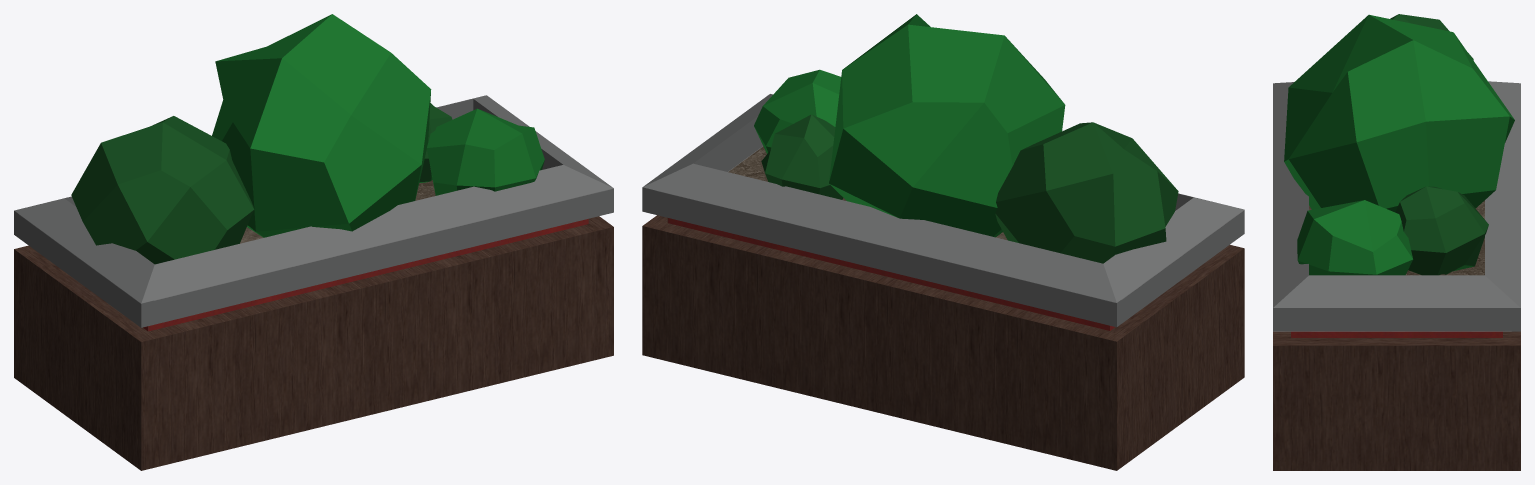
The model's file is Plant1.gltf.
3 renders of one model, left to right at view 1: azimuth 30°, elevation 25°; view 2: azimuth 150°, elevation 25°; view 3: azimuth 270°, elevation 25°, orthographic. The views are drawn at different scales.
Parts seen in each view (by area): view 1: pPlatonic5; view 2: pPlatonic5; view 3: pPlatonic5.
Boxes of the visible parts, x1,y1,x2,y2 form: pPlatonic5: (14, 14, 613, 470); pPlatonic5: (642, 14, 1244, 470); pPlatonic5: (1273, 14, 1520, 470).
Bounding box in the file's own units: 1.9 × 1.31 × 0.8863.
Materials: 1 (1 with a texture image).
